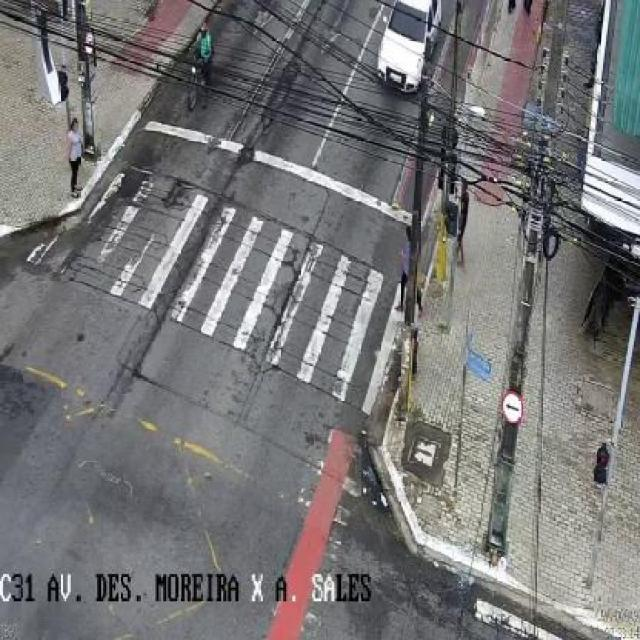Car: (356, 0, 438, 118)
Cycle: (175, 16, 224, 105)
